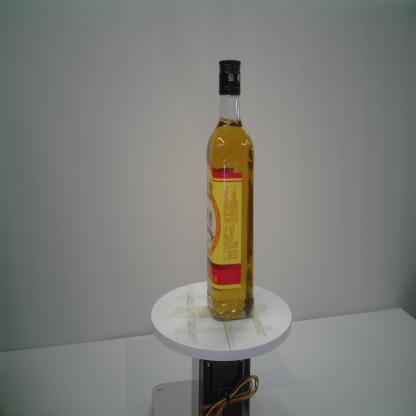Seasoner: (203, 58, 258, 322)
